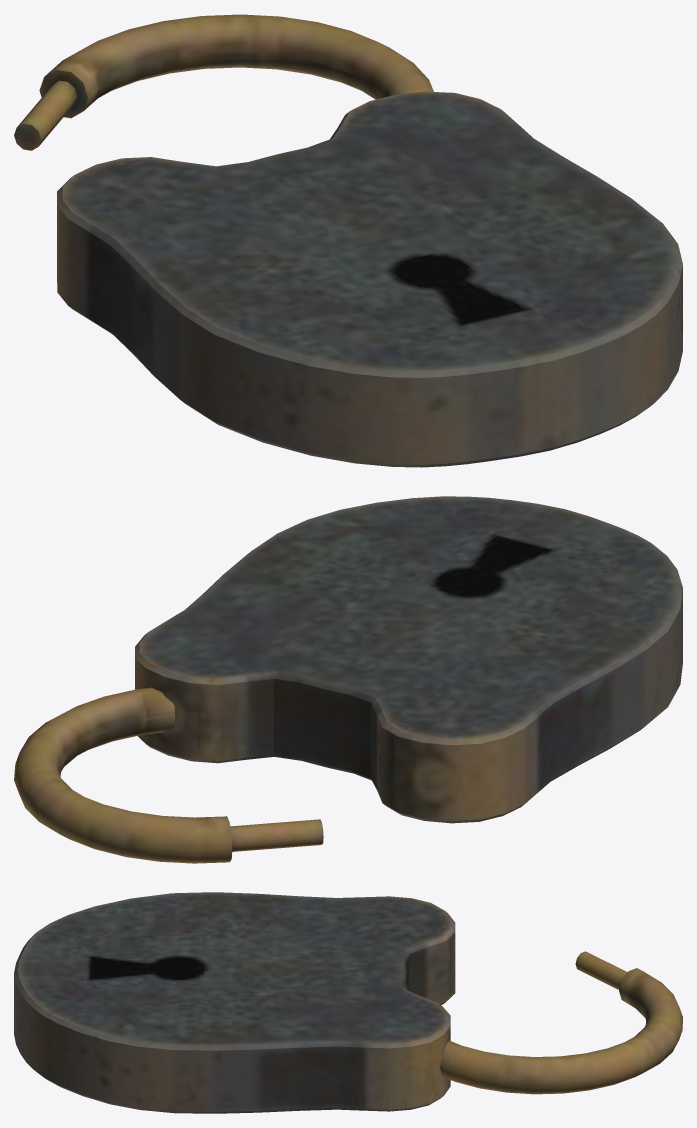
File: SM_Lock_Open.glb
3 renders of one model, top to bottom at view 1: azimuth 30°, elevation 25°; view 2: azimuth 150°, elevation 25°; view 3: azimuth 270°, elevation 25°, orthographic. The views are drawn at different scales.
Parts seen in each view (by area): view 1: SM_Lock_Open; view 2: SM_Lock_Open; view 3: SM_Lock_Open.
Boxes of the visible parts, left/top/right/bottom form: SM_Lock_Open: left=14, top=14, right=682, bottom=467; SM_Lock_Open: left=14, top=496, right=682, bottom=863; SM_Lock_Open: left=14, top=892, right=682, bottom=1113.
Bounding box in the file's own units: 0.2006 × 0.0399 × 0.355.
Materials: 1 (1 with a texture image).
